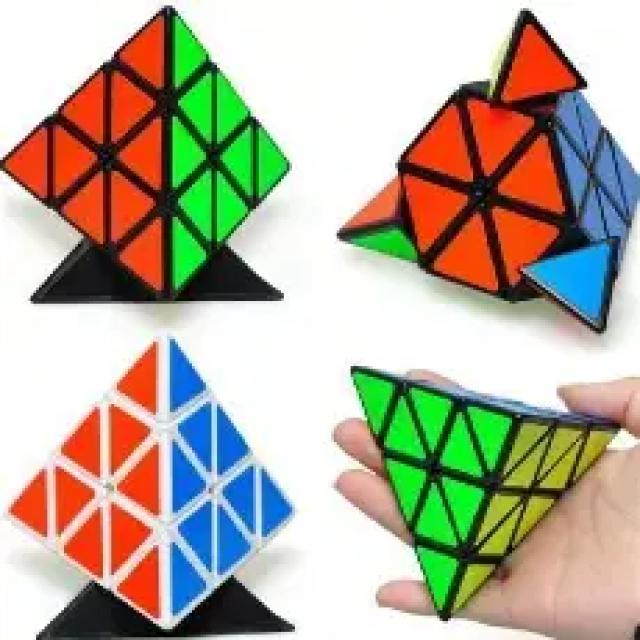Rubiks Cube: (332, 6, 637, 335), (3, 331, 298, 631), (0, 7, 293, 301), (350, 367, 618, 622)
